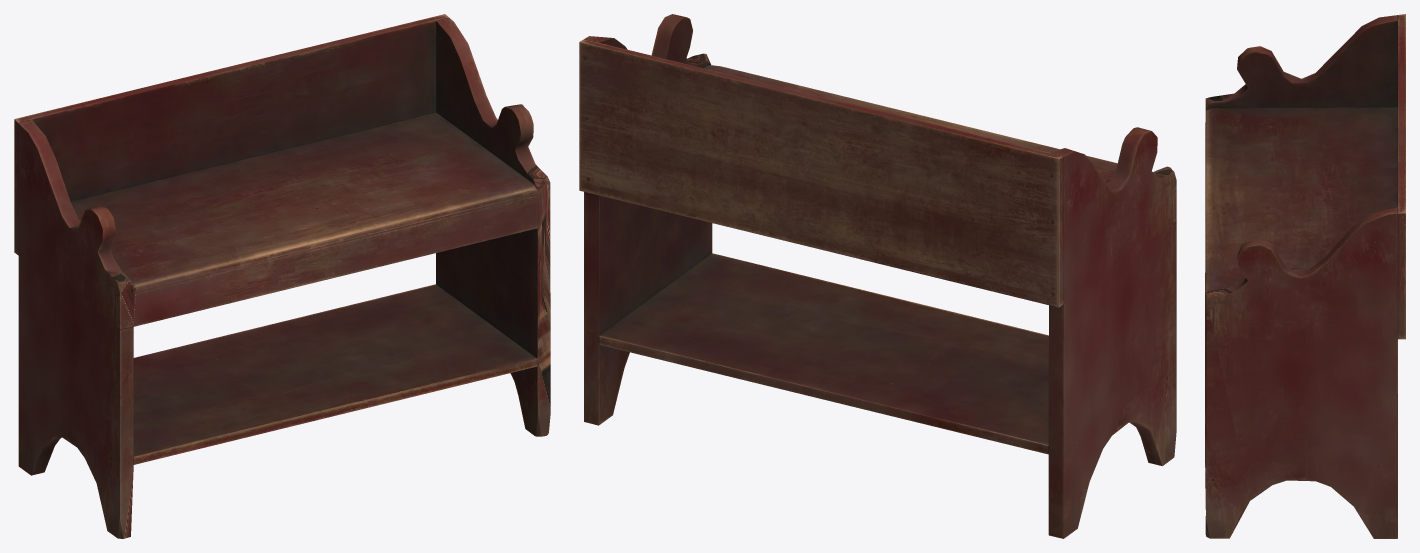
The model's file is painted_wooden_bench_lod1.glb.
3 renders of one model, left to right at view 1: azimuth 30°, elevation 25°; view 2: azimuth 150°, elevation 25°; view 3: azimuth 270°, elevation 25°, orthographic. The views are drawn at different scales.
Parts seen in each view (by area): view 1: painted_wooden_bench; view 2: painted_wooden_bench; view 3: painted_wooden_bench.
Boxes of the visible parts, x1,y1,x2,y2 form: painted_wooden_bench: (14,14,550,538); painted_wooden_bench: (579,14,1176,538); painted_wooden_bench: (1205,14,1405,538).
Size of the model in its own units: 1.16 by 0.8893 by 0.4965.
1 material, 1 textured.
